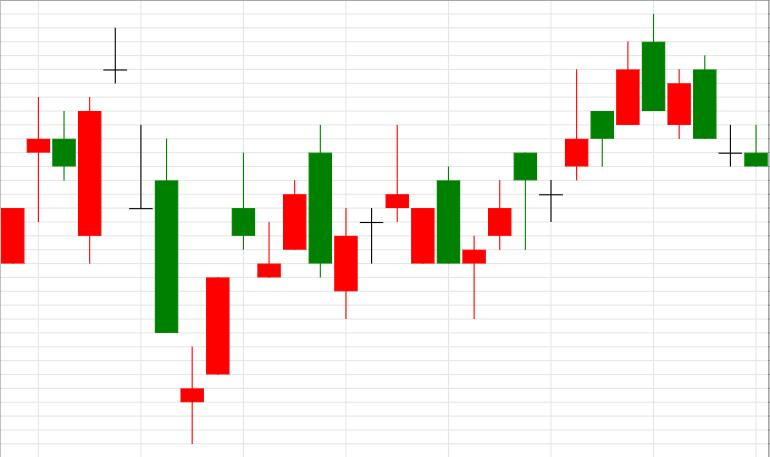morning_star_rise: (104, 29, 230, 444)
shooting_star_fall: (462, 70, 588, 318)
